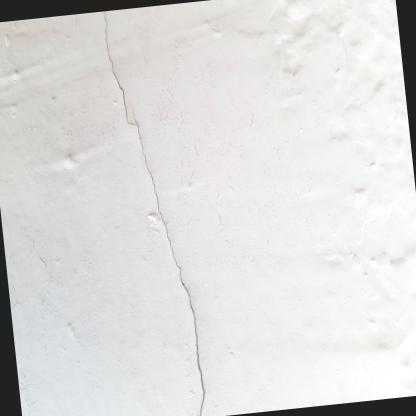crack: (102, 10, 204, 416)
